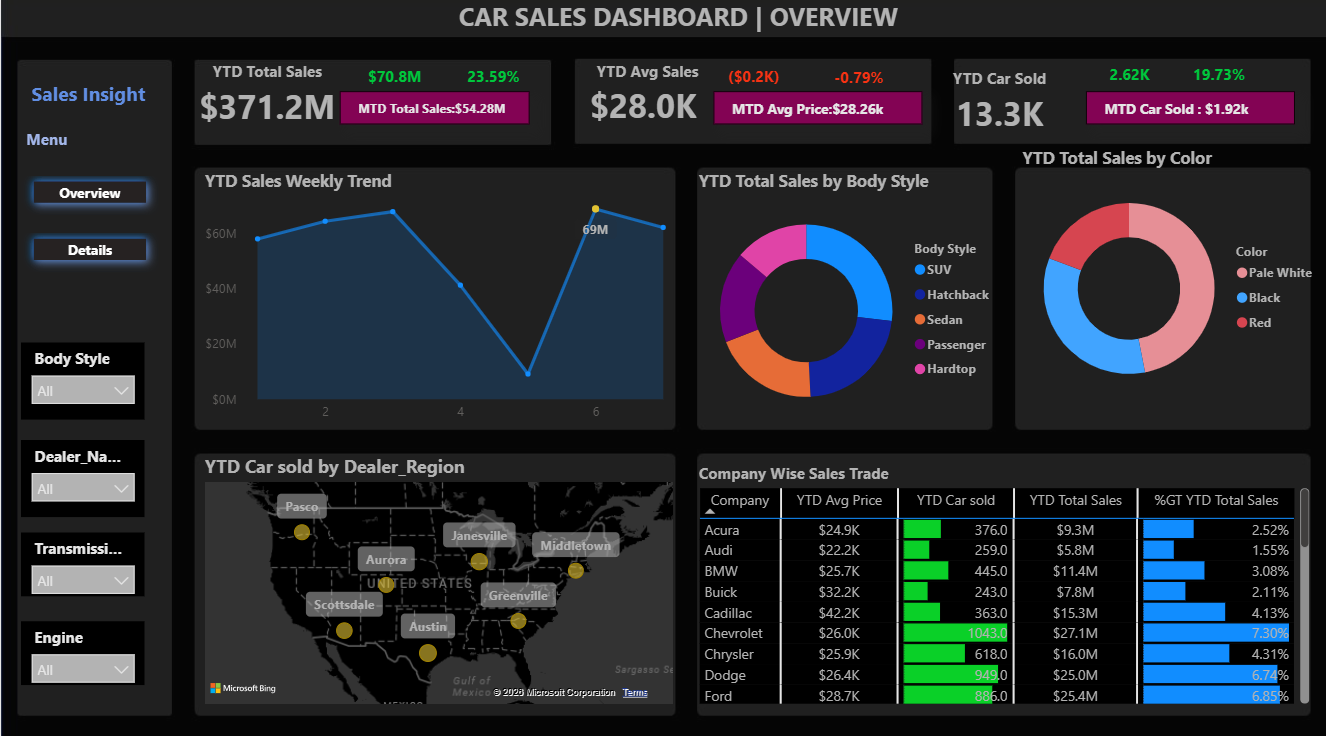

This screenshot's page, from the dashboard's own definition file:
{"tool":"powerbi","page":{"name":"Overview","canvas":[1280,720],"ordinal":0},"visuals":[{"type":"cardVisual","title":"YTD Total Sales","fields":{"Data":["car_data.YTD Total Sales"]},"box":[169.4,62.5,176.4,65.3],"z":0},{"type":"cardVisual","fields":{"Data":["car_data.Sales Difference"]},"box":[333.4,59,94.7,35.7],"z":1000},{"type":"cardVisual","fields":{"Data":["car_data.YOY Sales Growth"]},"box":[428.1,59,94.7,35.7],"z":2000},{"type":"cardVisual","fields":{"Data":["car_data.MTD KPI"]},"box":[326.4,93.1,183.3,31.9],"z":3000},{"type":"cardVisual","title":"YTD Avg Sales","fields":{"Data":["car_data.YTD Avg Price"]},"box":[551.6,63.1,145.5,64.5],"z":4000},{"type":"cardVisual","fields":{"Data":["car_data.Avg Price Diff"]},"box":[684.2,59.9,85.5,34.2],"z":5000},{"type":"cardVisual","fields":{"Data":["car_data.YOY Avg Price Growth"]},"box":[781.1,59.9,95.5,35.6],"z":6000},{"type":"cardVisual","fields":{"Data":["car_data.MTD Avg Price KPI"]},"box":[687.5,93.1,201.4,31.9],"z":7000},{"type":"cardVisual","title":"YTD Car Sold","fields":{"Data":["car_data.YTD Car sold"]},"box":[888.9,63.9,176.4,63.9],"z":8000},{"type":"cardVisual","fields":{"Data":["car_data.Cars sold Diff"]},"box":[1047.2,58.3,84.7,34.7],"z":9000},{"type":"cardVisual","fields":{"Data":["car_data.YOY Car Sold growth"]},"box":[1131.9,58.3,88.9,34.7],"z":10000},{"type":"cardVisual","fields":{"Data":["car_data.MTD Car Sold KPI"]},"box":[1047.2,93.1,201.4,31.9],"z":11000},{"type":"areaChart","title":"YTD Sales Weekly Trend","fields":{"Category":["Calander Table.week"],"Y":["Sum(car_data.Price ($))","car_data.Max Point"]},"box":[191.7,168.1,462.5,252.8],"z":12000},{"type":"donutChart","fields":{"Category":["car_data.Body Style"],"Y":["car_data.YTD Total Sales"]},"box":[668.1,168.1,300,252.8],"z":13000},{"type":"donutChart","fields":{"Y":["car_data.YTD Total Sales"],"Category":["car_data.Color"]},"box":[980.6,168.1,300,252.8],"z":14000},{"type":"map","fields":{"Category":["car_data.Dealer_Region"],"Size":["car_data.YTD Car sold"]},"box":[191.8,442.8,462.1,246.1],"z":15000},{"type":"tableEx","title":"Company Wise Sales Trade ","fields":{"Values":["car_data.Company","car_data.YTD Avg Price","car_data.YTD Car sold","car_data.YTD Total Sales1","car_data.YTD Total Sales"]},"box":[668.4,451.2,599.6,237.7],"z":16000},{"type":"textbox","box":[436.7,0,463.3,43.4],"z":17000},{"type":"slicer","fields":{"Values":["car_data.Body Style"]},"box":[19.3,335.4,119.4,74.8],"z":18000},{"type":"slicer","fields":{"Values":["car_data.Dealer_Name"]},"box":[19.3,429.5,119.4,74.8],"z":19000},{"type":"slicer","fields":{"Values":["car_data.Transmission"]},"box":[19.3,518.8,119.4,61.5],"z":20000},{"type":"slicer","fields":{"Values":["car_data.Engine"]},"box":[19.3,604.4,119.4,61.5],"z":21000},{"type":"textbox","box":[0,77.2,168.9,47.1],"z":22000},{"type":"textbox","box":[19.3,124.3,83.2,43.4],"z":23000},{"type":"pageNavigator","box":[19.3,167.7,133.9,101.3],"z":24000}]}

Visuals, with their boxes in screenshot pixels (x1, y1, x2, y2), scaled from the page's 1280x720 canvas onto the 1326x736 screenshot:
"YTD Total Sales" cardVisual: 175 64 358 131
cardVisual - car_data.Sales Difference: 345 60 443 97
cardVisual - car_data.YOY Sales Growth: 443 60 542 97
cardVisual - car_data.MTD KPI: 338 95 528 128
"YTD Avg Sales" cardVisual: 571 65 722 130
cardVisual - car_data.Avg Price Diff: 709 61 797 96
cardVisual - car_data.YOY Avg Price Growth: 809 61 908 98
cardVisual - car_data.MTD Avg Price KPI: 712 95 921 128
"YTD Car Sold" cardVisual: 921 65 1104 131
cardVisual - car_data.Cars sold Diff: 1085 60 1173 95
cardVisual - car_data.YOY Car Sold growth: 1173 60 1265 95
cardVisual - car_data.MTD Car Sold KPI: 1085 95 1293 128
"YTD Sales Weekly Trend" areaChart: 199 172 678 430
donutChart - car_data.Body Style x car_data.YTD Total Sales: 692 172 1003 430
donutChart - car_data.YTD Total Sales x car_data.Color: 1016 172 1325 430
map - car_data.Dealer_Region x car_data.YTD Car sold: 199 453 677 704
"Company Wise Sales Trade " tableEx: 692 461 1314 704
textbox: 452 0 932 44
slicer - car_data.Body Style: 20 343 144 419
slicer - car_data.Dealer_Name: 20 439 144 516
slicer - car_data.Transmission: 20 530 144 593
slicer - car_data.Engine: 20 618 144 681
textbox: 0 79 175 127
textbox: 20 127 106 171
pageNavigator: 20 171 159 275
